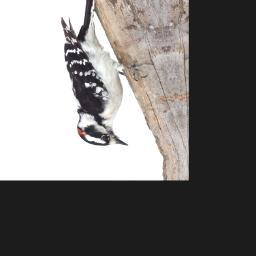Woodpecker: (45, 0, 170, 156)
